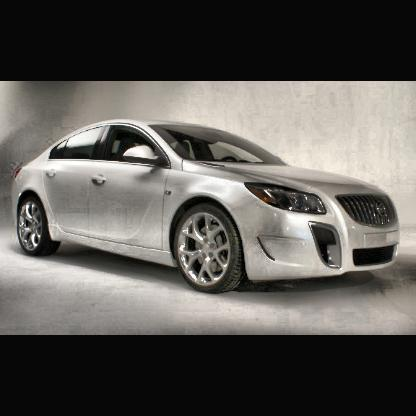Buick Regal GS 2012: (13, 103, 400, 295)
